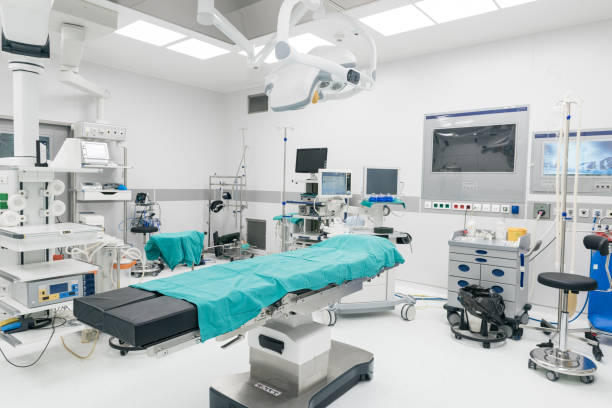TV: (429, 123, 514, 181), (543, 134, 612, 187)
bedside_monitor: (319, 168, 352, 200), (363, 169, 402, 196), (295, 147, 329, 174)
chair: (525, 231, 611, 383)
electrosurgical_unit: (8, 259, 96, 308)
hospital_bed: (73, 234, 403, 357)
iv_pole: (560, 102, 573, 349), (277, 122, 296, 254), (235, 123, 251, 196)
medical_drawer: (448, 242, 531, 331)
